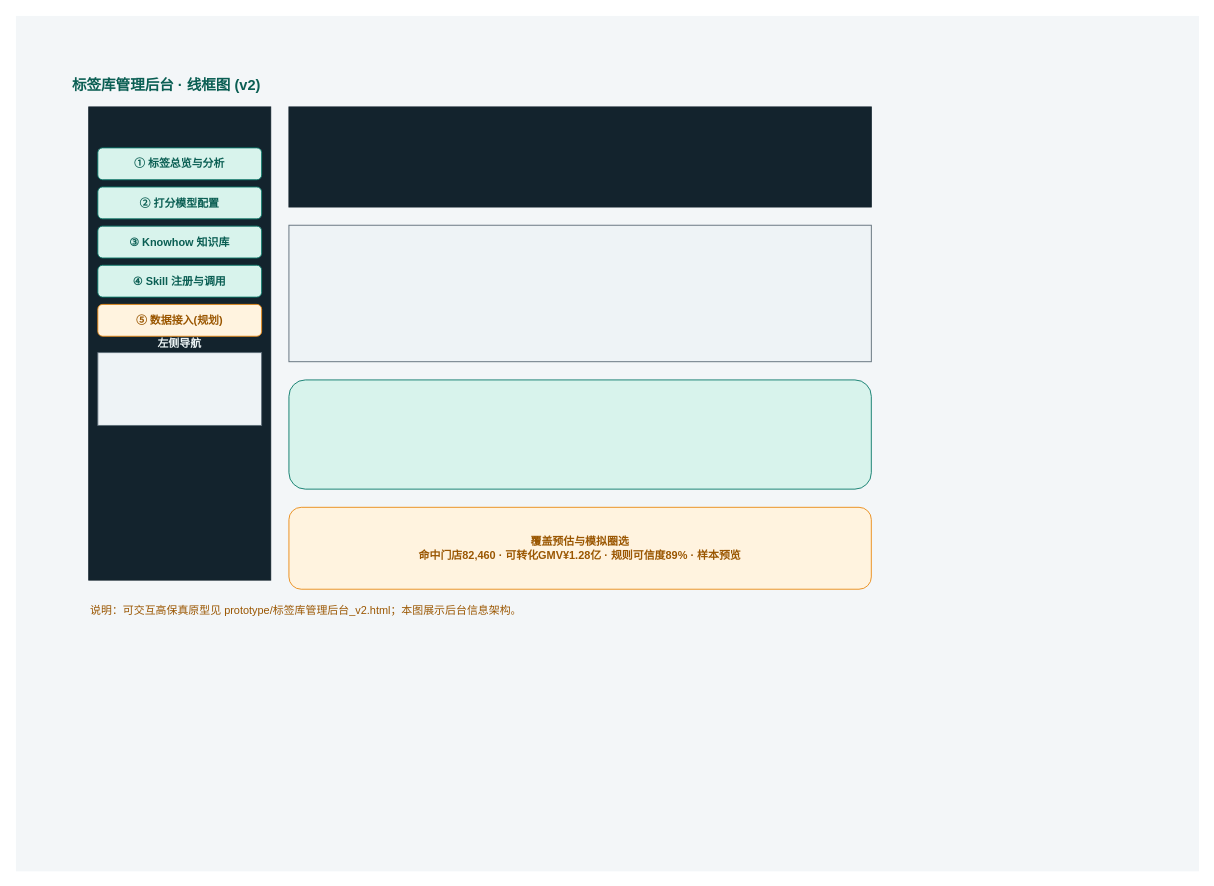
Image size: 1214x886. Some labels were removed from this diagram. The centre of each missing label's shape, as x and y in pixels:
"Hero · 门店标签从定义到发布全流程 KPI: 标签总数128 · 覆盖门店483万 · 异常告警11 · 发布批次9" belongs at pixel 579 156.
"标签列表与分组管理 搜索/筛选(对象/分组/状态/来源) · 标签表(编码/优先级/覆盖/发布)" belongs at pixel 579 293.
"标签来源映射 门店/订单/拜访/库存 竞品/协议/AI推断" belongs at pixel 179 388.
"标签详情 口径 · 数据血缘 · 规则配置 · AI提示词 · 版本 · 权限 · 审批流 · 效果回溯" belongs at pixel 579 434.
